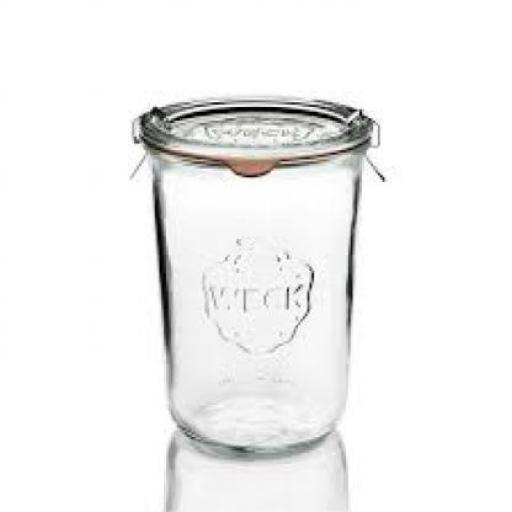glass: (141, 100, 369, 450)
